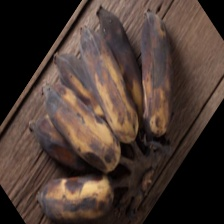banana: (24, 27, 176, 173)
